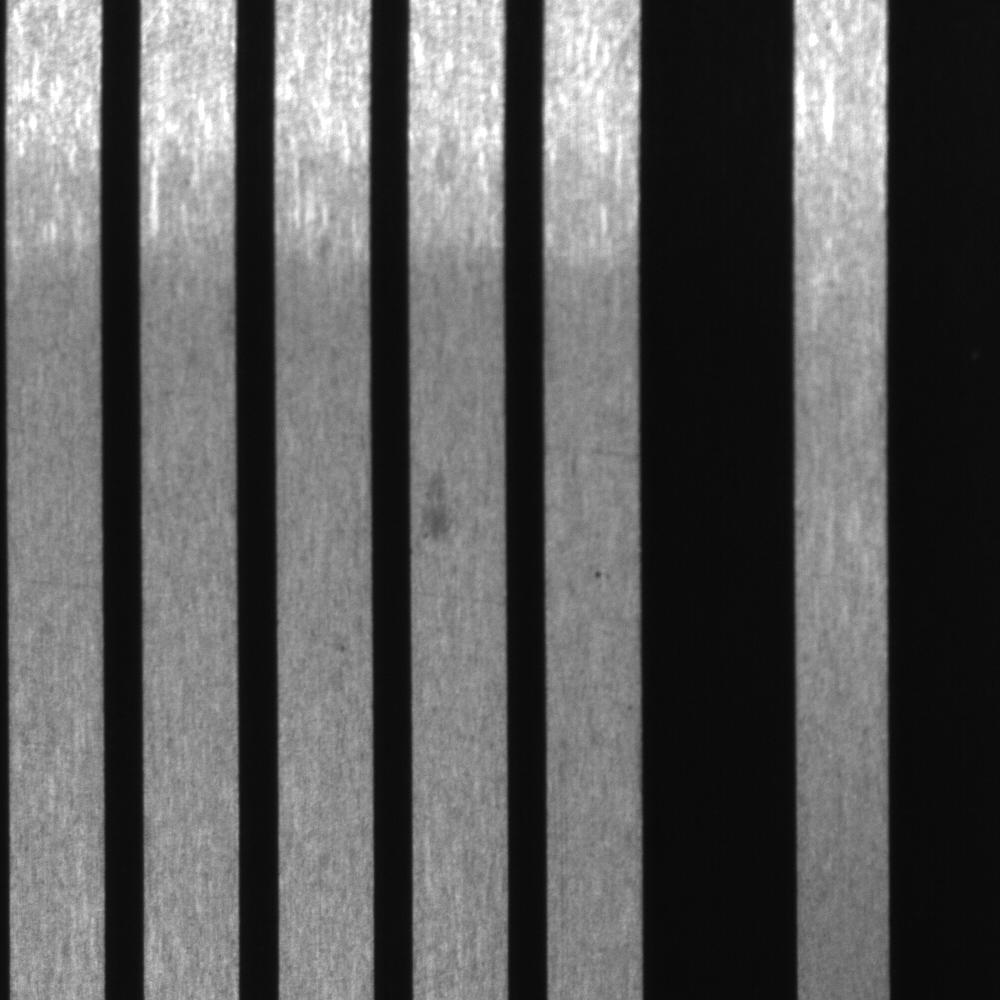Discolor: (416, 450, 490, 560)
Pinhole: (580, 557, 620, 590)
Scar: (9, 560, 100, 604), (413, 576, 506, 619), (548, 428, 640, 467)
